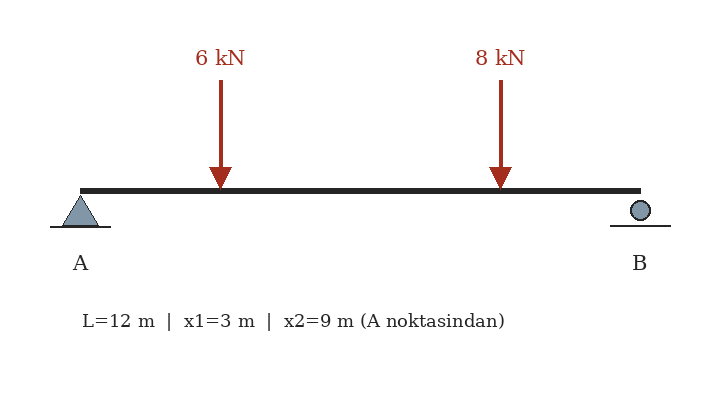pin_support: (61, 190, 99, 226)
point_load: (206, 76, 234, 190), (486, 76, 514, 190)
roller_support: (625, 196, 655, 227)
